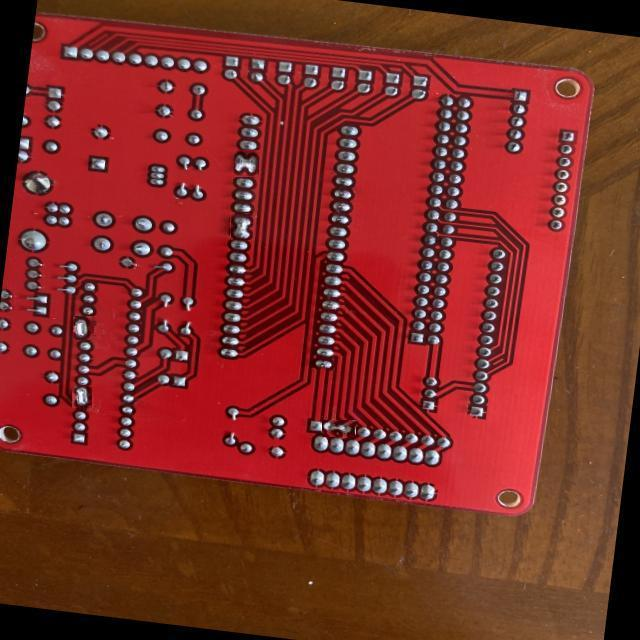damged: (233, 150, 260, 177), (230, 212, 253, 240), (322, 420, 356, 437), (74, 316, 95, 340), (72, 386, 92, 410)
